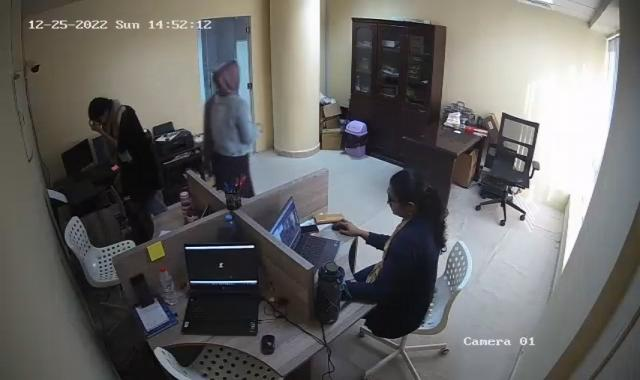no_hairnet: (387, 170, 425, 220), (213, 61, 240, 92), (88, 96, 112, 124)
